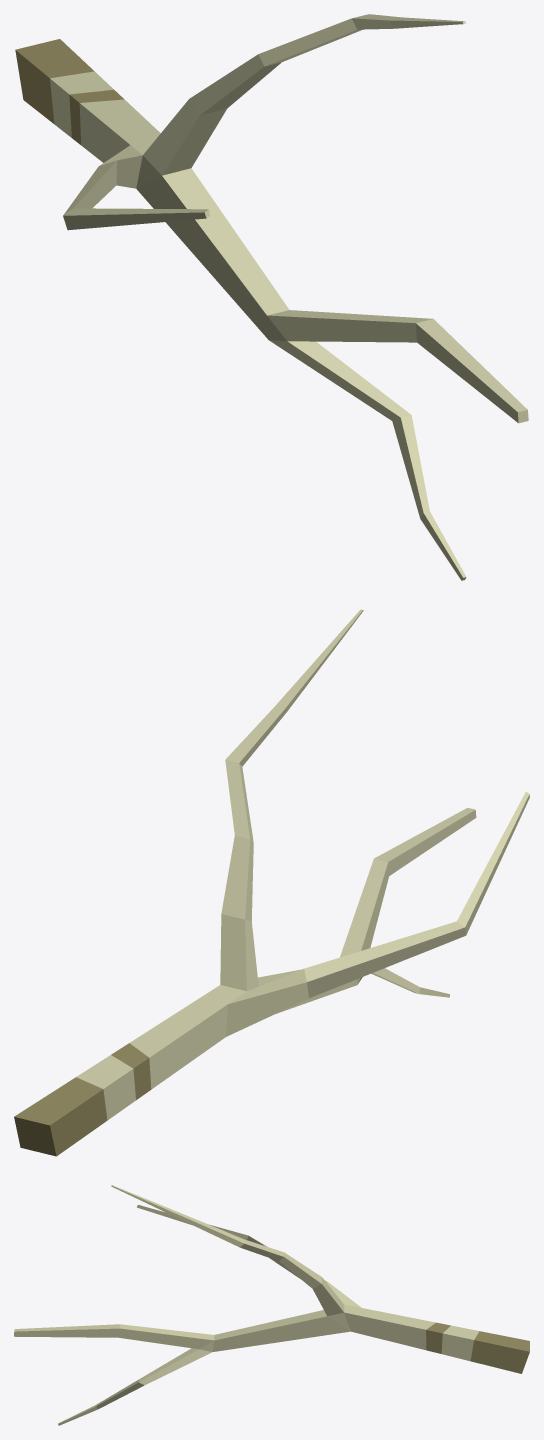
File: Birch_stam.fbx
The picture shows the model from 3 angles, top to bottom: view 1: azimuth 30°, elevation 25°; view 2: azimuth 150°, elevation 25°; view 3: azimuth 270°, elevation 25°; orthographic projection. The views are drawn at different scales.
Parts seen in each view (by area): view 1: Cube; view 2: Cube; view 3: Cube.
Boxes of the visible parts, x1,y1,x2,y2 form: Cube: (15,14,528,580); Cube: (14,609,529,1156); Cube: (14,1185,529,1425).
Bounding box in the file's own units: 201 × 322 × 594.
